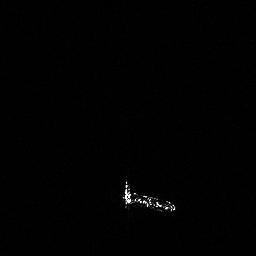ship: (119, 173, 178, 216)
